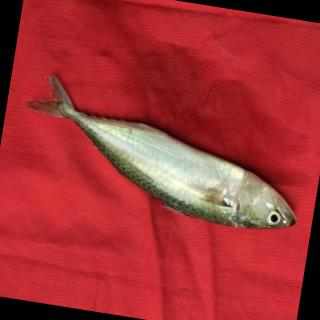Ikan: (3, 49, 320, 254)
